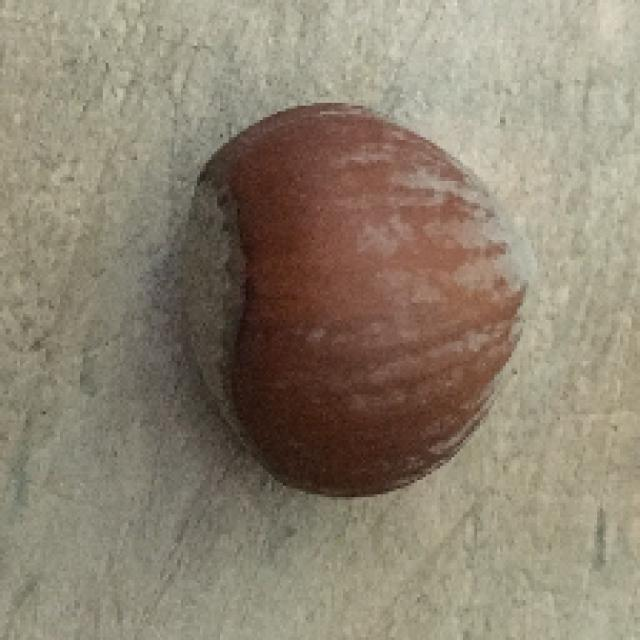qualityHazelnut: (174, 104, 533, 492)
